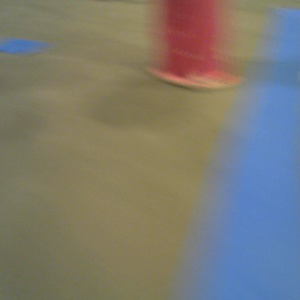right: (148, 2, 244, 88)
